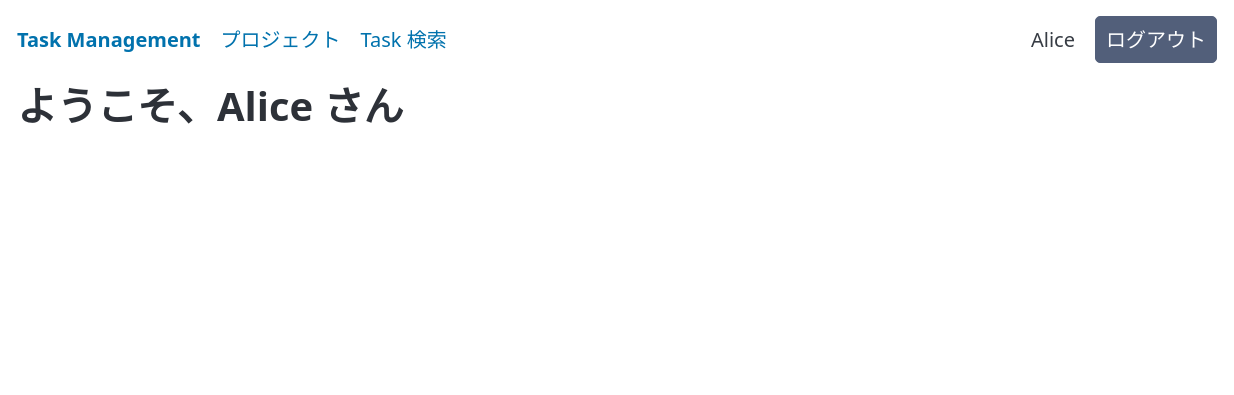
Test: Task 検索 › ナビゲーションから検索画面へ移動できる
Click the link "Task 検索": click(404, 39) [360,26,447,52]
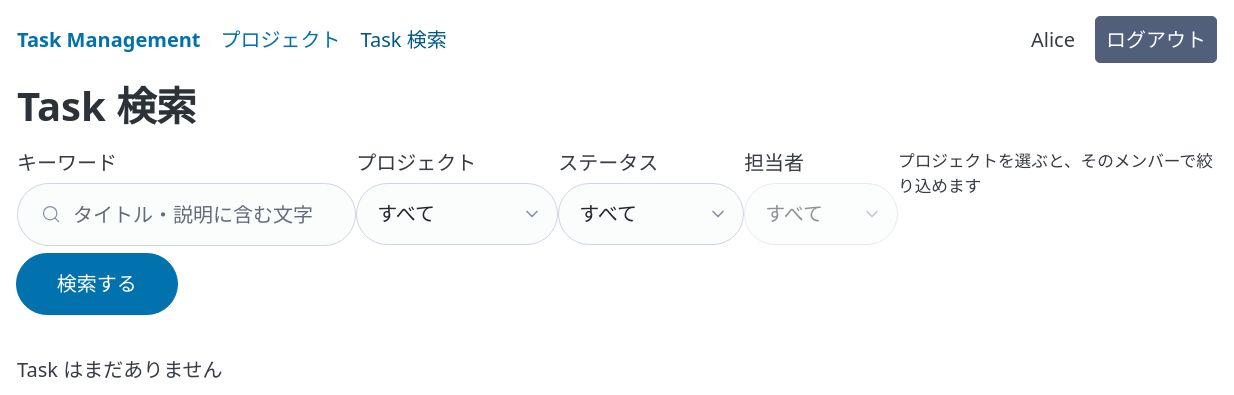
Check: the heading "Task 検索" is shown, box [17,78,196,133]
